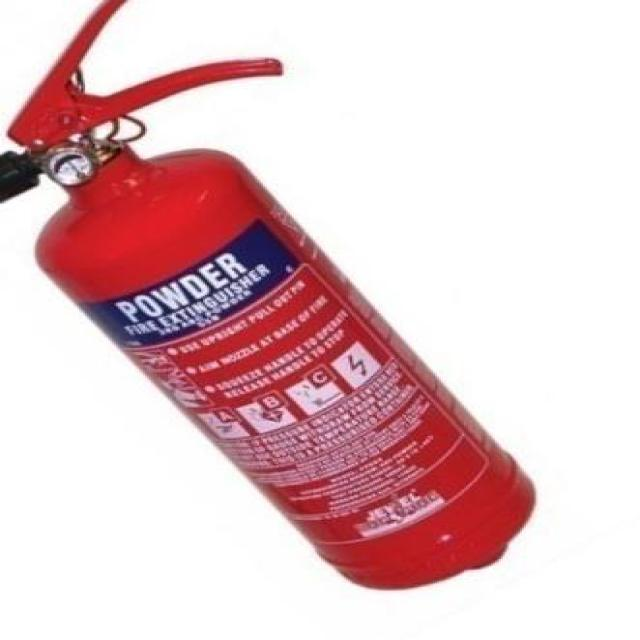fire_extinguisher: (0, 0, 545, 595)
